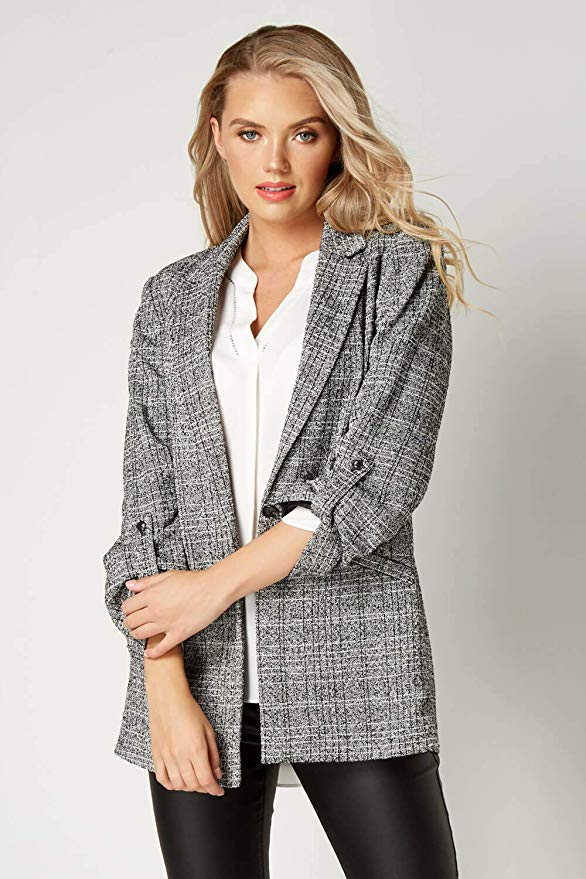F_W_suit jacket: (108, 215, 456, 758)
